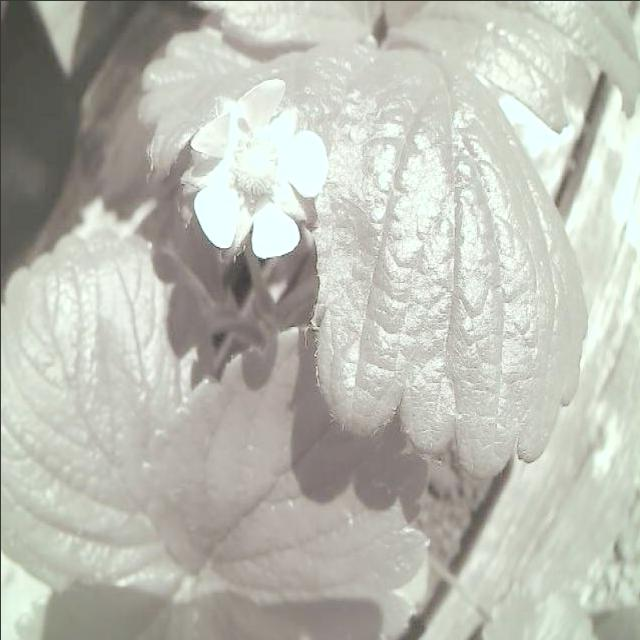flower: (178, 70, 332, 263)
